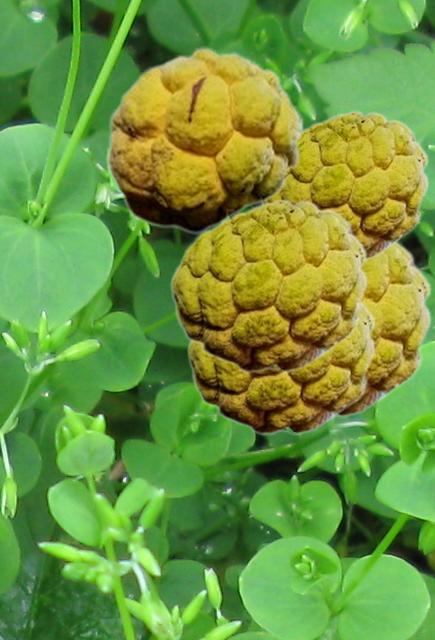atis: (105, 46, 303, 233), (169, 198, 367, 372), (186, 301, 375, 434), (271, 110, 428, 260), (338, 241, 431, 417)
